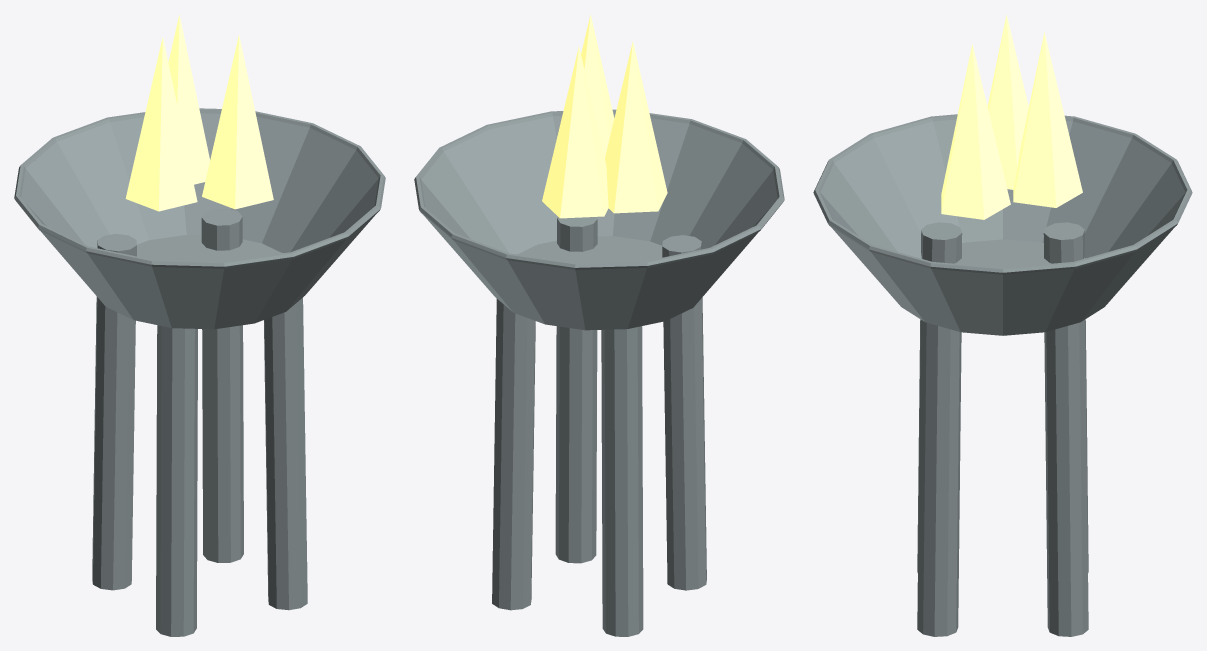
Rendered from Brazier_A.glb.
3 views of the same model, side by side, from view 1: azimuth 30°, elevation 25°; view 2: azimuth 150°, elevation 25°; view 3: azimuth 270°, elevation 25° (orthographic).
Parts seen in each view (by area): view 1: Brazier_A; view 2: Brazier_A; view 3: Brazier_A.
Boxes of the visible parts, x1,y1,x2,y2 form: Brazier_A: (14,14,385,636); Brazier_A: (414,14,784,636); Brazier_A: (813,15,1192,636).
Size of the model in its own units: 0.64 by 1.06 by 0.64.
